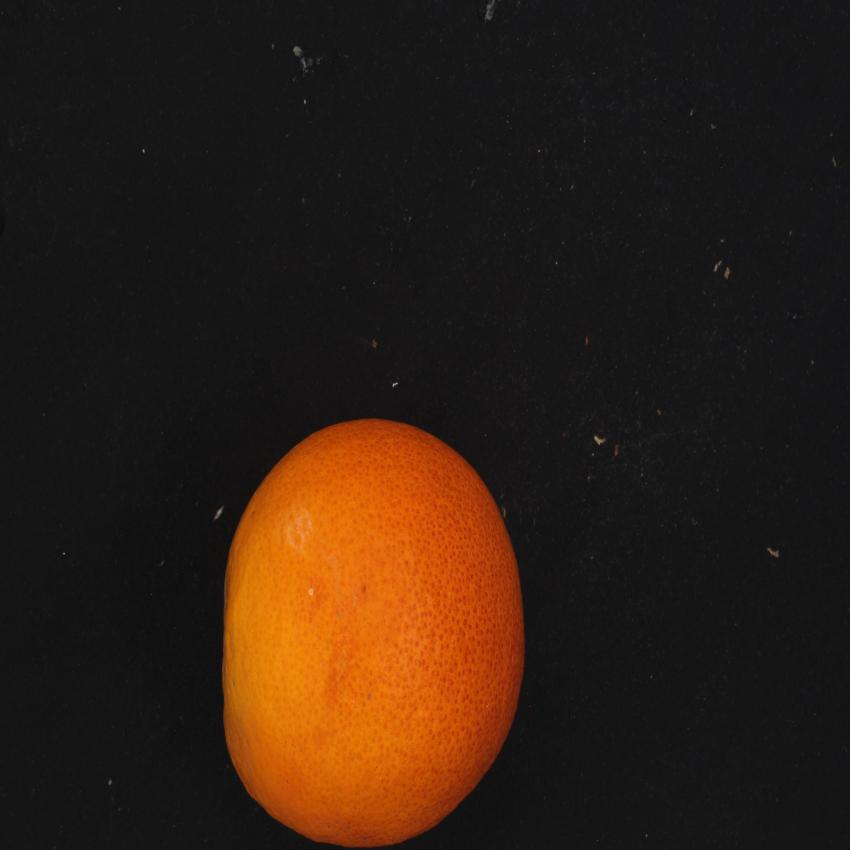Buen estado: (209, 406, 542, 850)
